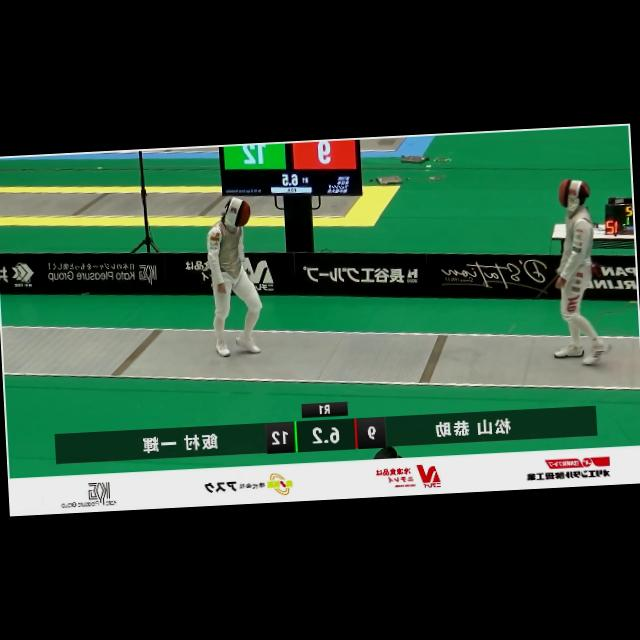blade: (502, 267, 567, 337)
